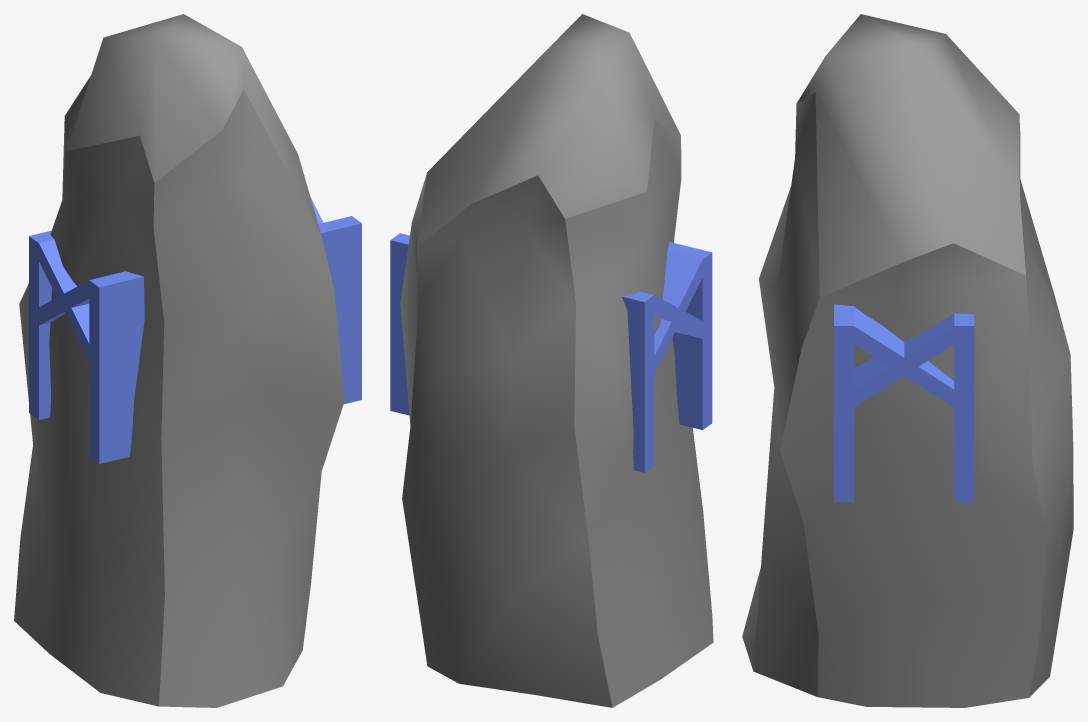
The model's file is obelisk.FBX.
The picture shows the model from 3 angles, left to right: view 1: azimuth 30°, elevation 25°; view 2: azimuth 150°, elevation 25°; view 3: azimuth 270°, elevation 25°; orthographic projection. The views are drawn at different scales.
Visible parts, largest first — view 1: obelisk001; view 2: obelisk001; view 3: obelisk001.
Boxes of the visible parts, x1,y1,x2,y2 form: obelisk001: [14, 14, 361, 707]; obelisk001: [390, 14, 713, 707]; obelisk001: [742, 14, 1073, 707].
Bounding box in the file's own units: 30.83 × 69.99 × 33.75.
